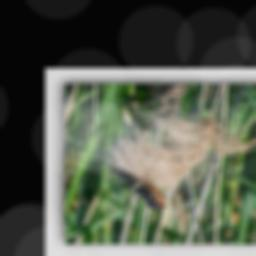Swallow: (103, 162, 171, 212)
